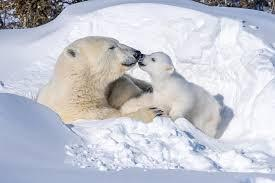bear: (36, 34, 164, 122), (139, 49, 223, 140)
